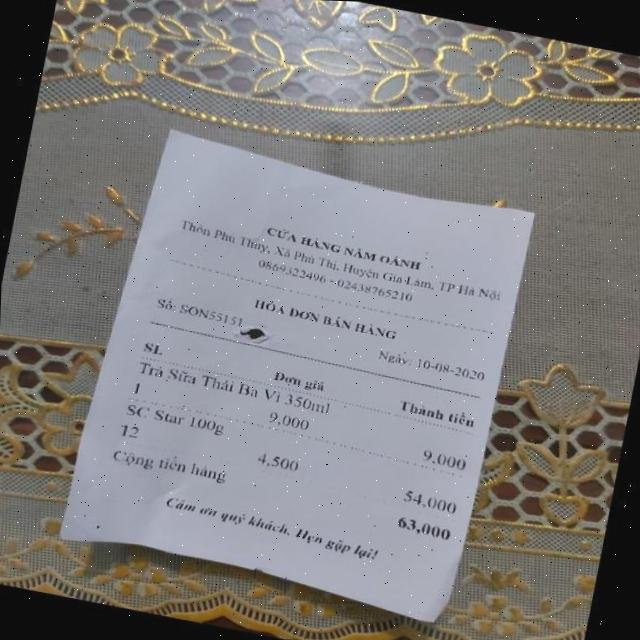Date: (414, 357, 488, 384)
Store_Name: (264, 224, 426, 274)
amount_number: (395, 512, 456, 543)
label_total: (108, 444, 232, 485)
